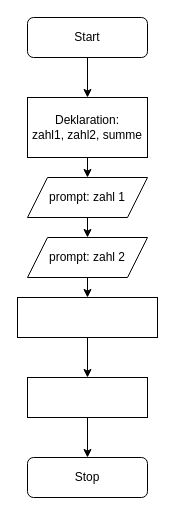
Image size: 175x515. Some labels were removed from this diagram. The shapes that lost their labels are listed below. From the top down, each one's centre as x and y in pixels, then its label:
At point (87, 317): "summe = zahl1 + zahl2".
At point (87, 397): "Konsolenausgabe".
